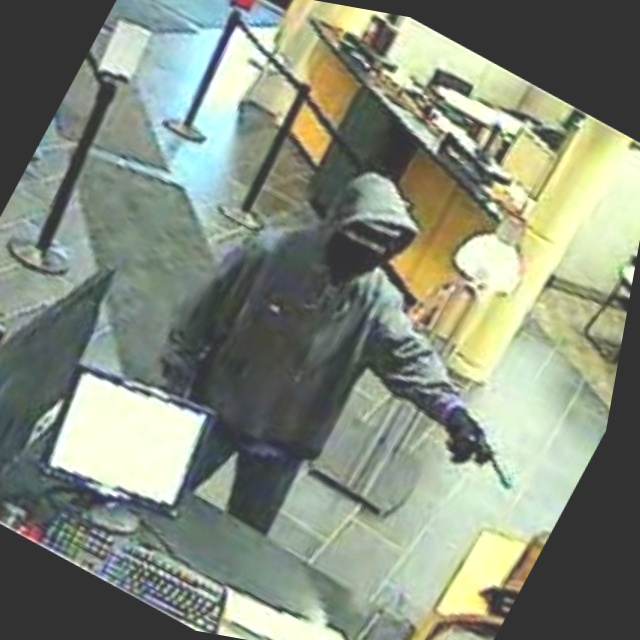gun: (424, 403, 547, 506)
